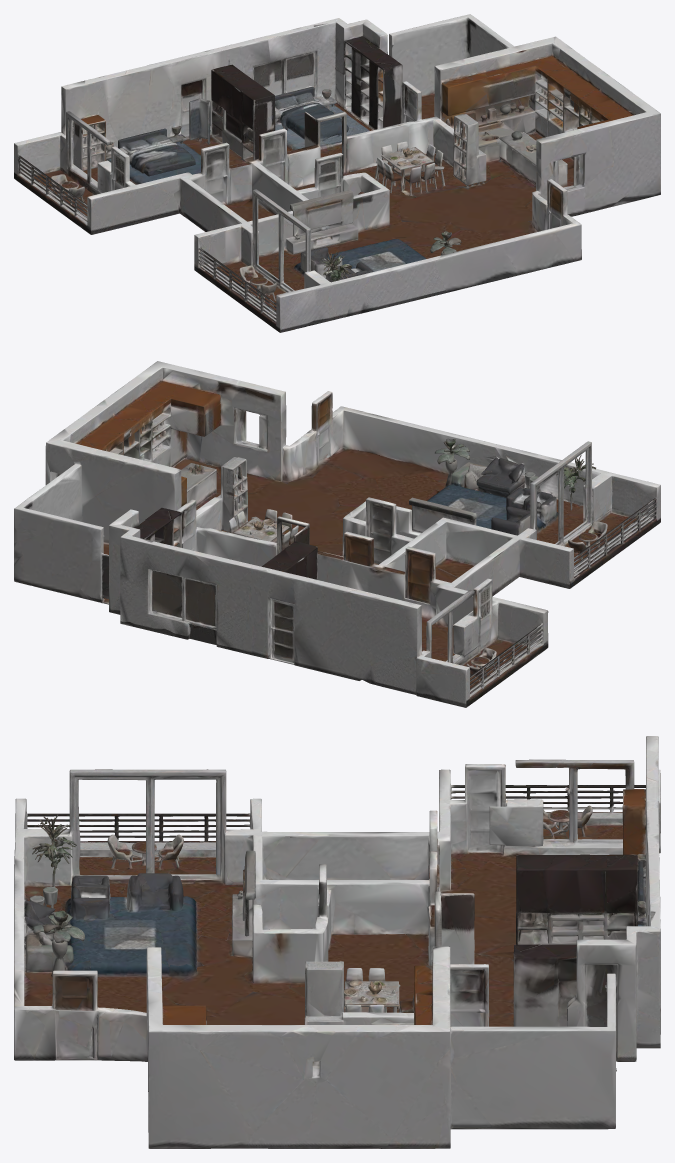
Rendered from floor_plan_3.glb.
3 views of the same model, one above another, from view 1: azimuth 30°, elevation 25°; view 2: azimuth 150°, elevation 25°; view 3: azimuth 270°, elevation 25° (orthographic). The views are drawn at different scales.
Size of the model in its own units: 1.9 by 0.3182 by 1.58.
1 material, 1 textured.
